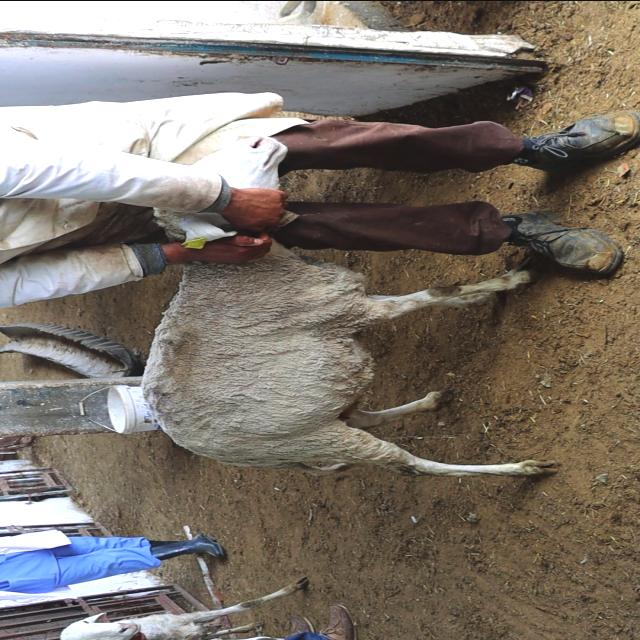Score_5: (142, 238, 556, 476)
